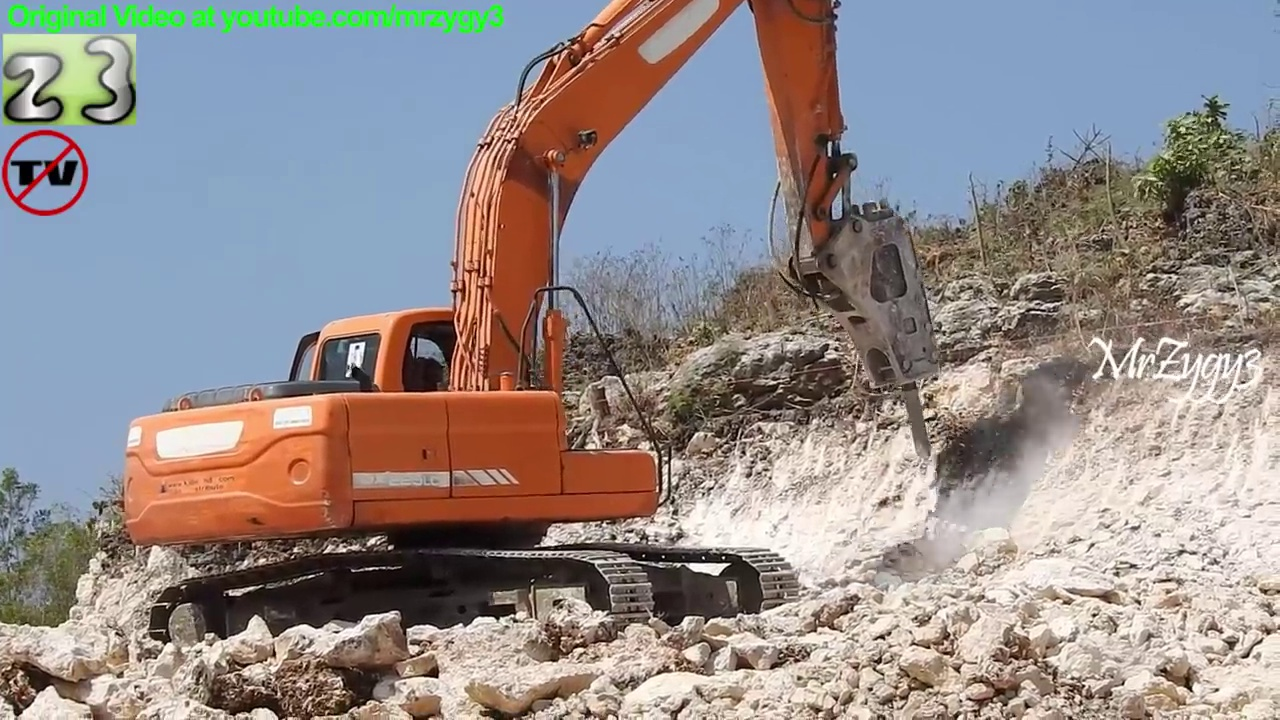excavator: (113, 1, 954, 654)
